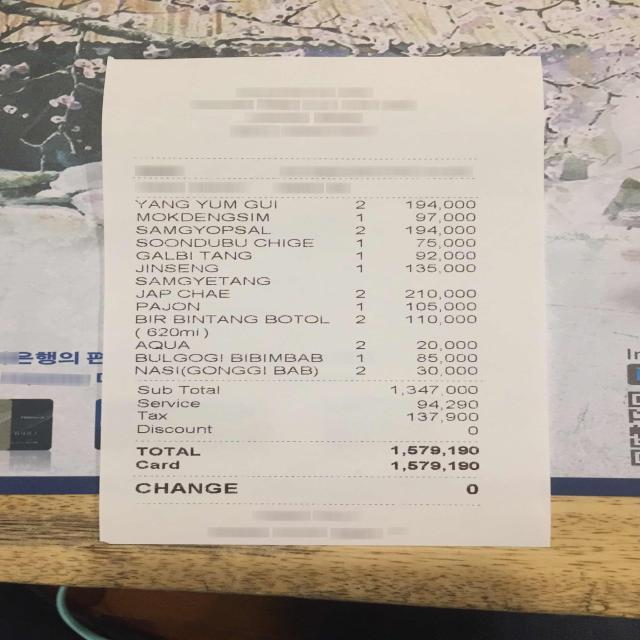kertas: (100, 57, 551, 546)
